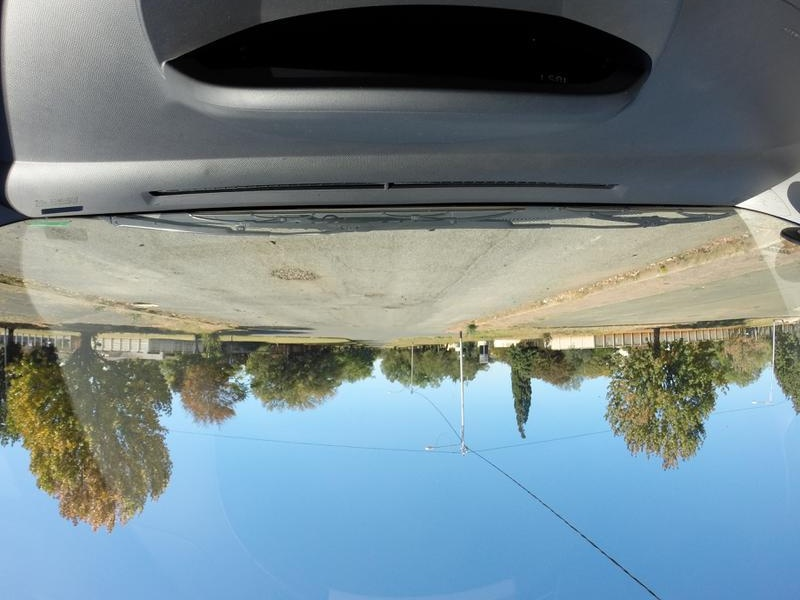pothole: (261, 268, 317, 282), (353, 289, 384, 299)
